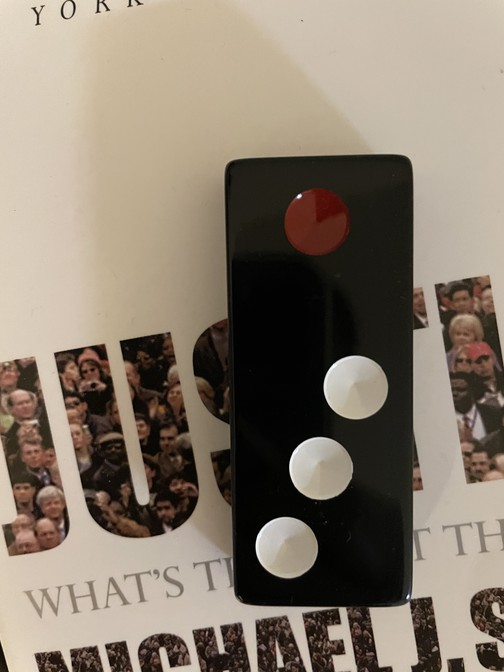goose: (225, 155, 413, 607)
